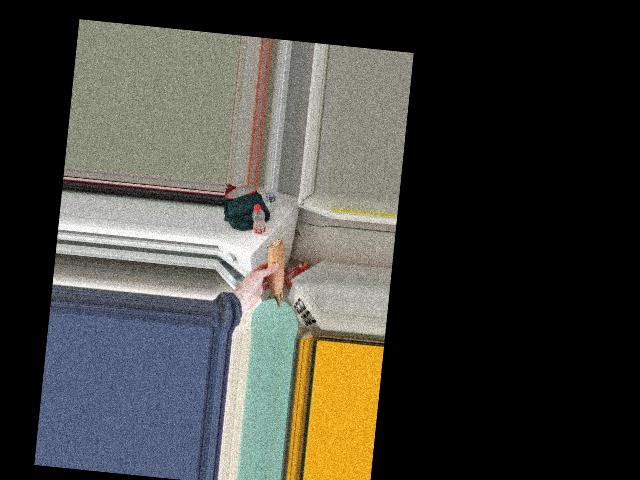sweet_potato: (263, 242, 287, 306)
